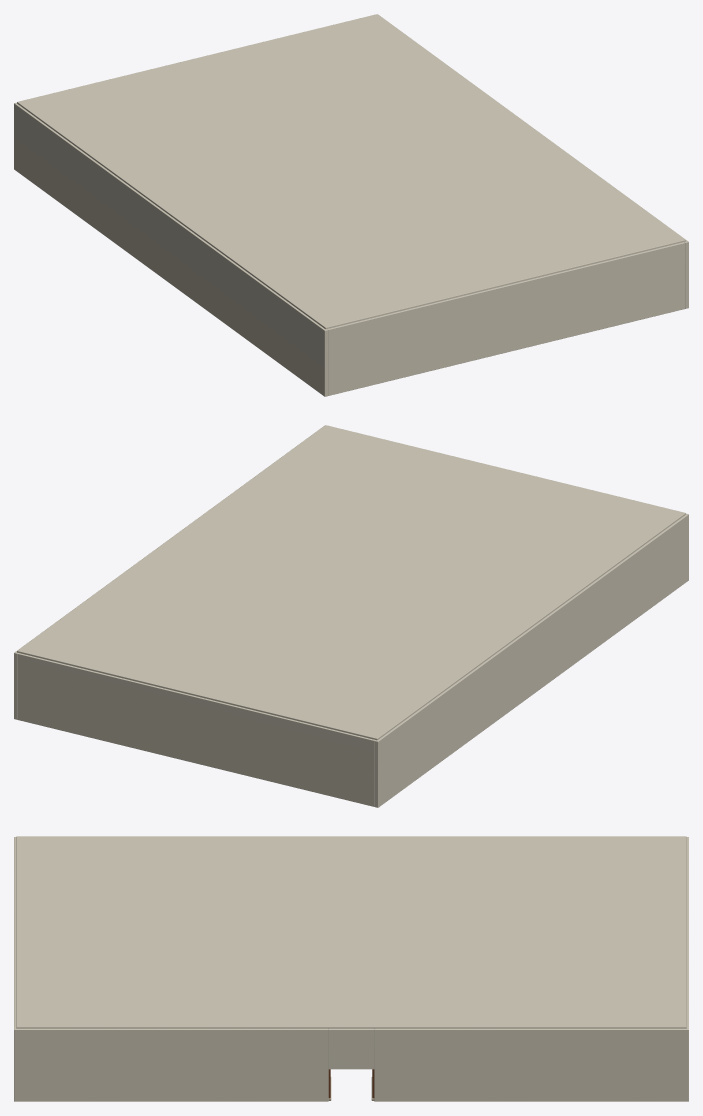
File: WP10_moss_receiving_inert001.glb
The picture shows the model from 3 angles, top to bottom: view 1: azimuth 30°, elevation 25°; view 2: azimuth 150°, elevation 25°; view 3: azimuth 270°, elevation 25°; orthographic projection. The views are drawn at different scales.
Parts seen in each view (by area): view 1: WP10_N0597_WP10_protected_opaque_roof, WP10_N0593_WP10_end_enclosure_001, WP10_N0591_WP10_outer_port_wall; view 2: WP10_N0597_WP10_protected_opaque_roof, WP10_N0592_WP10_end_enclosure, WP10_N0591_WP10_outer_port_wall; view 3: WP10_N0597_WP10_protected_opaque_roof, WP10_N0594_WP10_axial_fore_return, WP10_N0595_WP10_axial_aft_return, WP10_N0596_WP10_portal_header, WP10_N0592_WP10_end_enclosure, WP10_N0593_WP10_end_enclosure_001.
Boxes of the visible parts, <box> form: WP10_N0597_WP10_protected_opaque_roof: <box>17,14,685,329</box>; WP10_N0593_WP10_end_enclosure_001: <box>328,242,684,395</box>; WP10_N0591_WP10_outer_port_wall: <box>14,102,328,396</box>; WP10_N0597_WP10_protected_opaque_roof: <box>17,425,685,740</box>; WP10_N0592_WP10_end_enclosure: <box>18,653,374,806</box>; WP10_N0591_WP10_outer_port_wall: <box>374,513,688,807</box>; WP10_N0597_WP10_protected_opaque_roof: <box>16,836,686,1028</box>; WP10_N0594_WP10_axial_fore_return: <box>374,1028,688,1101</box>; WP10_N0595_WP10_axial_aft_return: <box>14,1028,328,1101</box>; WP10_N0596_WP10_portal_header: <box>328,1028,374,1069</box>; WP10_N0592_WP10_end_enclosure: <box>686,839,688,1027</box>; WP10_N0593_WP10_end_enclosure_001: <box>14,839,16,1027</box>.
Size of the model in its own units: 46 by 8.2 by 68.
63 materials, 58 textured.
